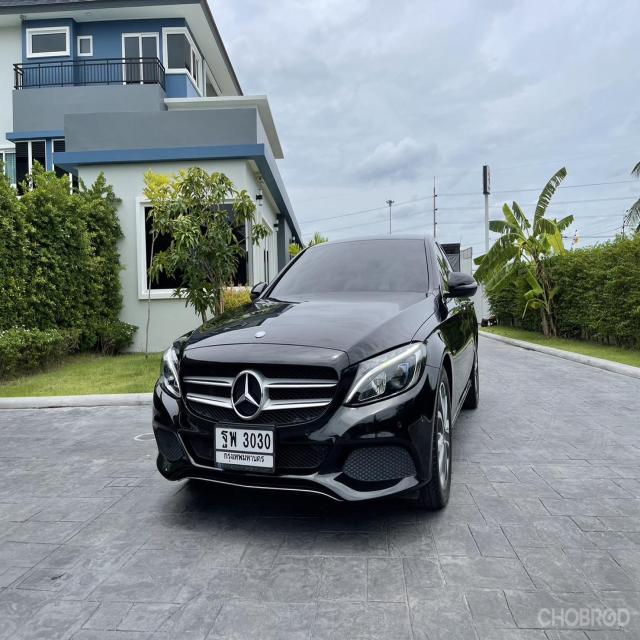license_plate: (214, 420, 276, 472)
